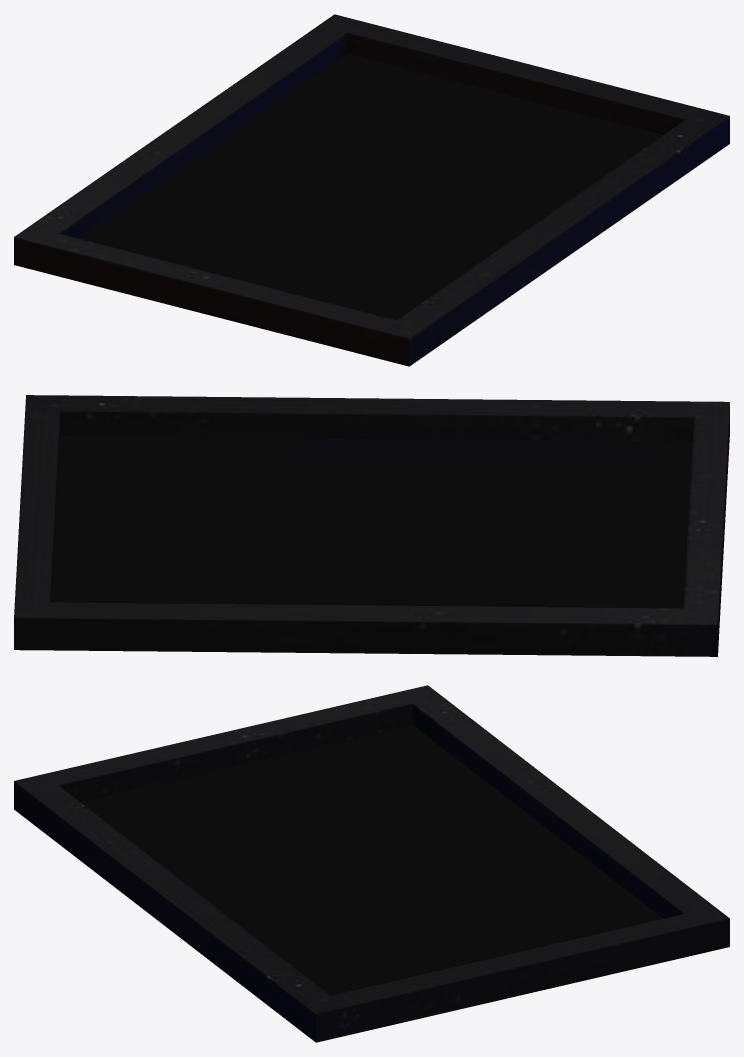
Rendered from lapin_blanc_frame.glb.
3 views of the same model, one above another, from view 1: azimuth 30°, elevation 25°; view 2: azimuth 150°, elevation 25°; view 3: azimuth 270°, elevation 25° (orthographic). The views are drawn at different scales.
Parts seen in each view (by area): view 1: lapin_blanc_frame; view 2: lapin_blanc_frame; view 3: lapin_blanc_frame.
Part boxes in pixels (<box>): lapin_blanc_frame: <box>14,14,729,366</box>; lapin_blanc_frame: <box>14,395,729,656</box>; lapin_blanc_frame: <box>14,685,729,1042</box>.
Size of the model in its own units: 6.93 by 0.28 by 6.37.
Materials: 1 (1 with a texture image).
